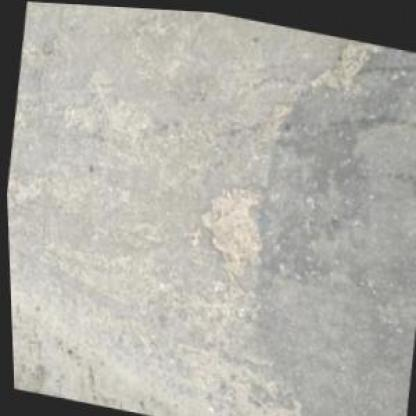pothole: (187, 172, 269, 266), (334, 33, 370, 85)
